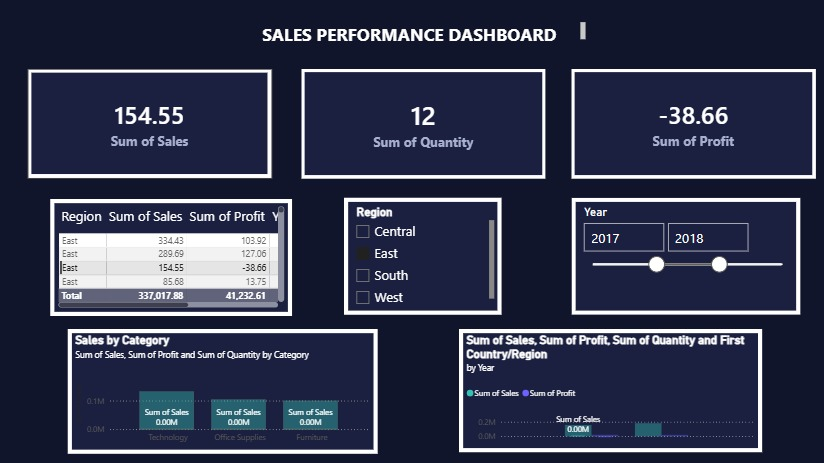

This screenshot's page, from the dashboard's own definition file:
{"tool":"powerbi","page":{"name":"Page 1","canvas":[1280,720],"ordinal":0},"visuals":[{"type":"tableEx","fields":{"Values":["Orders.Region","Sum(Orders.Sales)","Sum(Orders.Profit)","Orders.Order Date.Variation.Date Hierarchy.Year","Orders.Order Date.Variation.Date Hierarchy.Quarter","Orders.Order Date.Variation.Date Hierarchy.Month","Orders.Order Date.Variation.Date Hierarchy.Day"]},"box":[79.6,307.4,372.2,179.6],"z":0},{"type":"clusteredColumnChart","fields":{"Category":["Orders.Order Date.Variation.Date Hierarchy.Year","Orders.Order Date.Variation.Date Hierarchy.Quarter","Orders.Order Date.Variation.Date Hierarchy.Month","Orders.Order Date.Variation.Date Hierarchy.Day"],"Y":["Sum(Orders.Sales)","Sum(Orders.Profit)"]},"box":[708.3,508.3,466.7,189.6],"z":1000},{"type":"slicer","fields":{"Values":["Orders.Region"]},"box":[531.5,305.6,242.6,179.6],"z":2000},{"type":"textbox","box":[400,30,507.1,40],"z":3000},{"type":"slicer","fields":{"Values":["Orders.Order Date.Variation.Date Hierarchy.Year"]},"box":[881.5,305.6,351.9,179.6],"z":4000},{"type":"clusteredColumnChart","title":"Sales by Category","fields":{"Category":["Orders.Category"],"Y":["Sum(Orders.Sales)"]},"box":[106.2,508.3,477.1,191.7],"z":5000},{"type":"cardVisual","fields":{"Data":["Sum(Orders.Sales)"]},"box":[43.8,108.3,375.9,168.5],"z":6000},{"type":"cardVisual","fields":{"Data":["Sum(Orders.Profit)"]},"box":[881.5,107.4,375.9,168.5],"z":7000},{"type":"cardVisual","fields":{"Data":["Sum(Orders.Quantity)"]},"box":[464.6,108.3,375,168.8],"z":8000}]}

Visuals, with their boxes in screenshot pixels (x1, y1, x2, y2), scaled from the page's 1280x720 canvas onto the 824x463 screenshot:
tableEx - Orders.Region x Sum(Orders.Sales): {"left": 51, "top": 198, "right": 291, "bottom": 313}
clusteredColumnChart - Orders.Order Date.Variation.Date Hierarchy.Year x Orders.Order Date.Variation.Date Hierarchy.Quarter: {"left": 456, "top": 327, "right": 756, "bottom": 449}
slicer - Orders.Region: {"left": 342, "top": 197, "right": 498, "bottom": 312}
textbox: {"left": 258, "top": 19, "right": 584, "bottom": 45}
slicer - Orders.Order Date.Variation.Date Hierarchy.Year: {"left": 567, "top": 197, "right": 794, "bottom": 312}
"Sales by Category" clusteredColumnChart: {"left": 68, "top": 327, "right": 375, "bottom": 450}
cardVisual - Sum(Orders.Sales): {"left": 28, "top": 70, "right": 270, "bottom": 178}
cardVisual - Sum(Orders.Profit): {"left": 567, "top": 69, "right": 809, "bottom": 177}
cardVisual - Sum(Orders.Quantity): {"left": 299, "top": 70, "right": 540, "bottom": 178}
